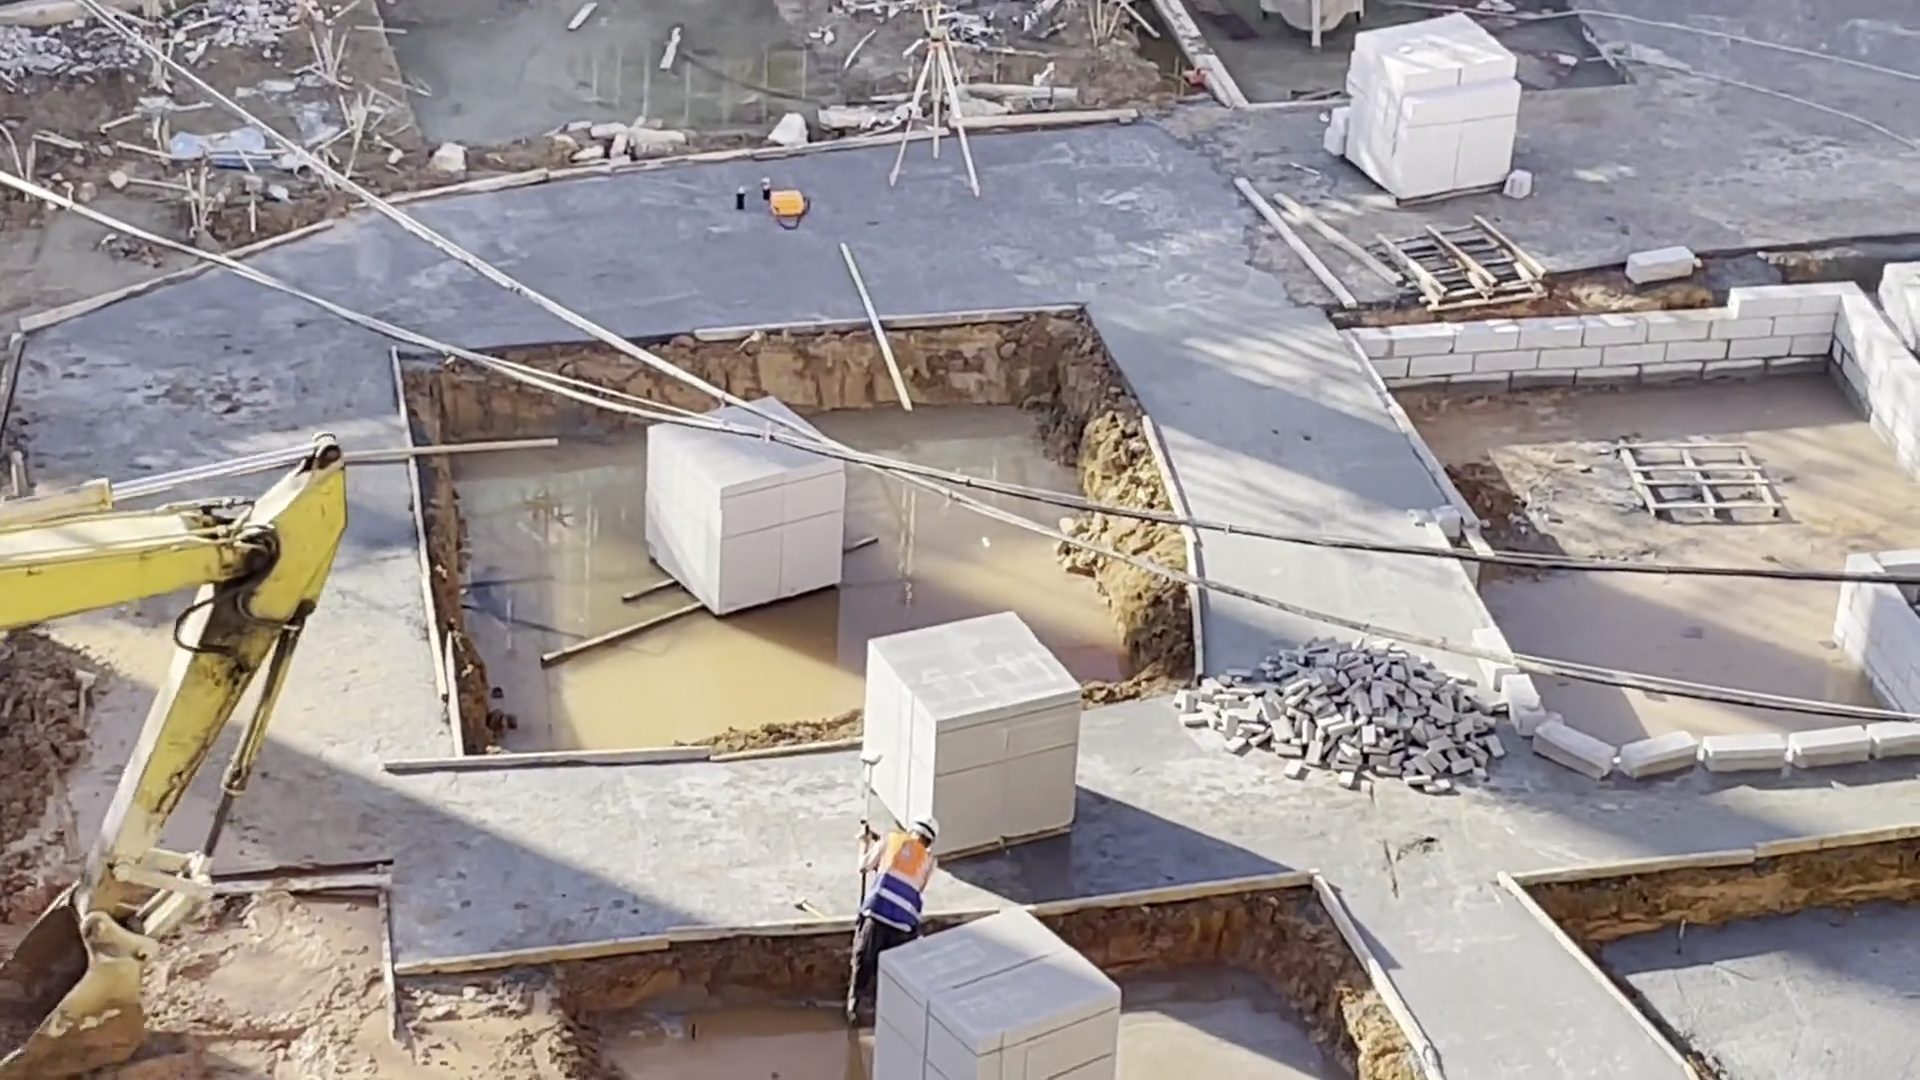brick: (1179, 637, 1515, 808), (852, 612, 1087, 853), (632, 390, 853, 622), (864, 903, 1138, 1080), (1336, 13, 1520, 213)
helmet: (915, 814, 944, 847)
hopper: (1246, 1, 1374, 42)
person: (854, 802, 953, 998)
vest: (872, 841, 932, 955)
